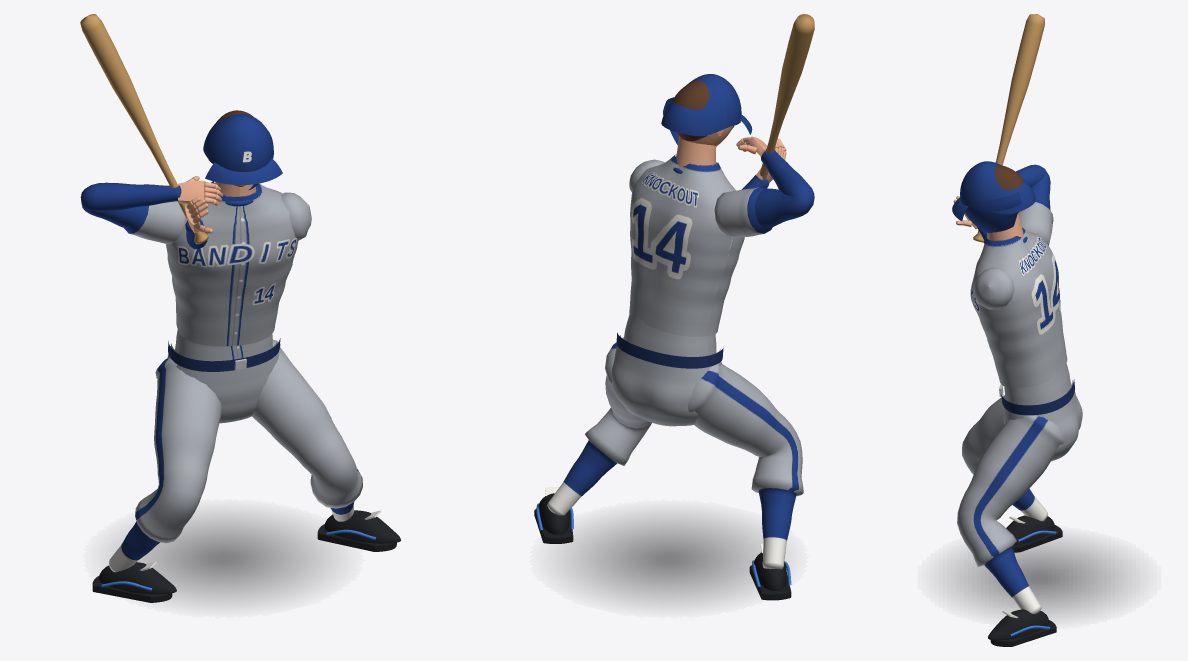
File: batter_away.glb
3 renders of one model, left to right at view 1: azimuth 30°, elevation 25°; view 2: azimuth 150°, elevation 25°; view 3: azimuth 270°, elevation 25°, orthographic. The views are drawn at different scales.
Parts seen in each view (by area): view 1: batter_away, object 30, object 32; view 2: batter_away, object 30, object 2, object 29; view 3: batter_away, object 30, object 31, object 29, object 2.
Boxes of the visible parts, x1,y1,x2,y2 form: batter_away: (80,14,400,603); object 30: (203,114,272,171); object 32: (205,158,282,184); batter_away: (534,14,814,604); object 30: (661,74,741,136); object 2: (676,136,716,167); object 29: (673,80,709,109); batter_away: (947,14,1131,646); object 30: (960,161,1035,214); object 31: (961,192,1021,232); object 29: (995,165,1023,190); object 2: (987,213,1023,240).
Bounding box in the file's own units: 3.67 × 6.95 × 3.3.
Materials: 27 (5 with a texture image).
